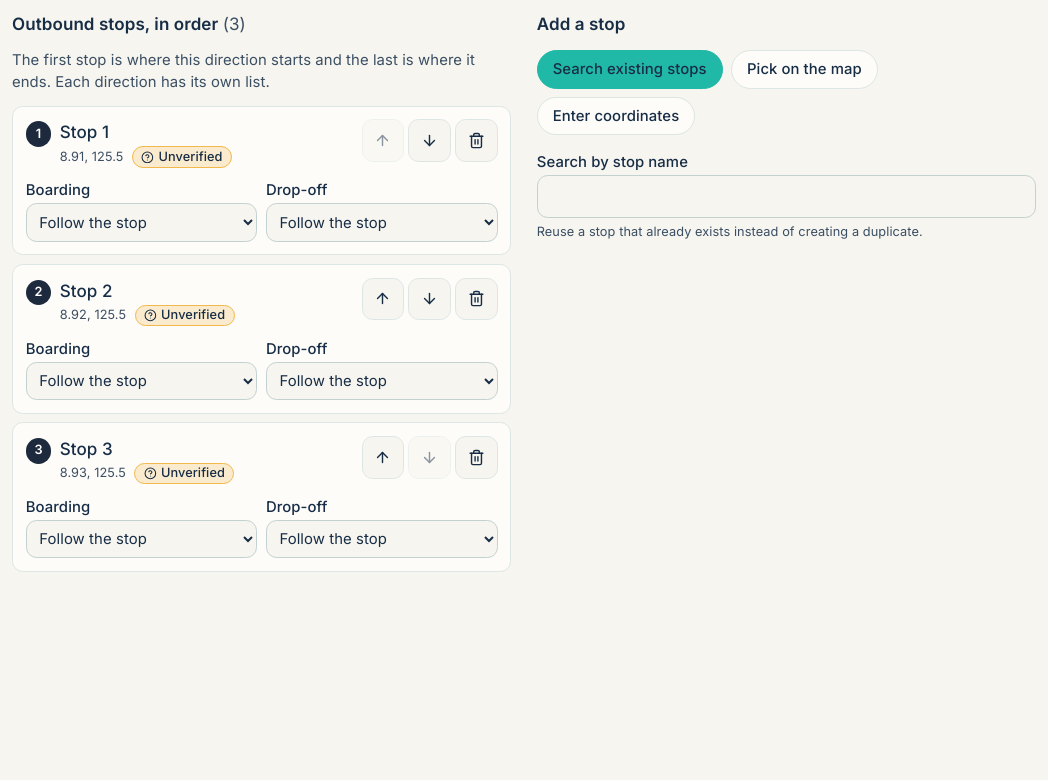
it: adding by search › does not add a stop that is already in this direction
In the search field labelled "Search by stop name": (786, 196) [537, 175, 1036, 218], type "stop"
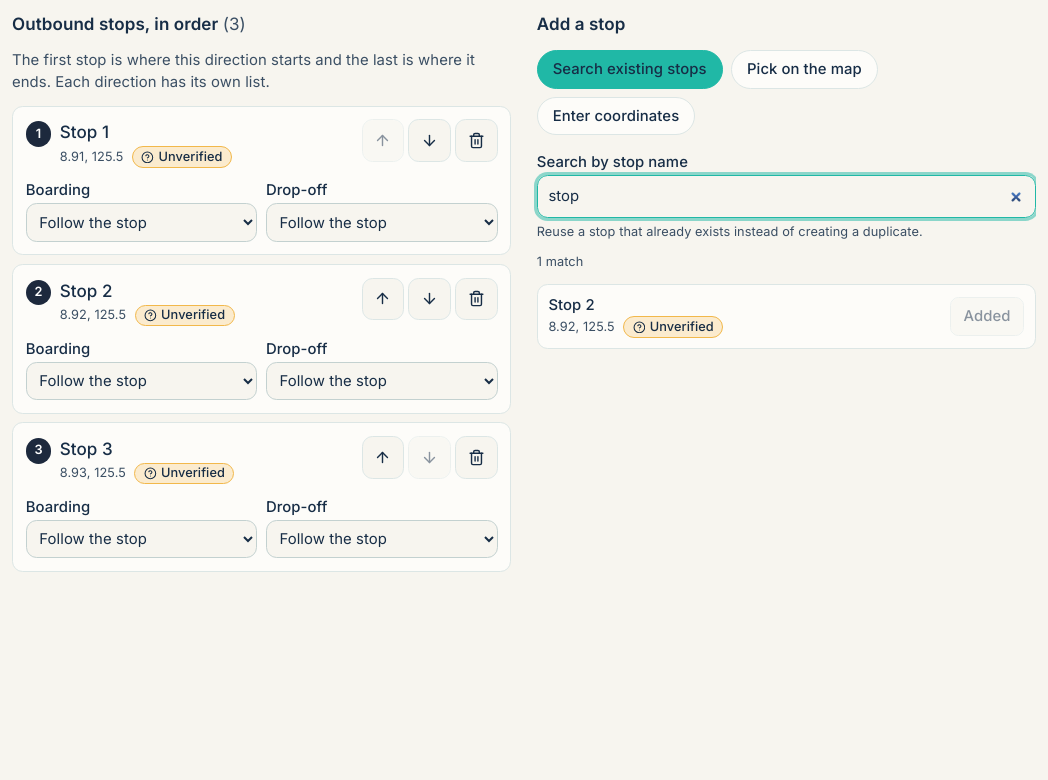
Expected: the button "Added" is disabled, [950, 297, 1024, 336]
